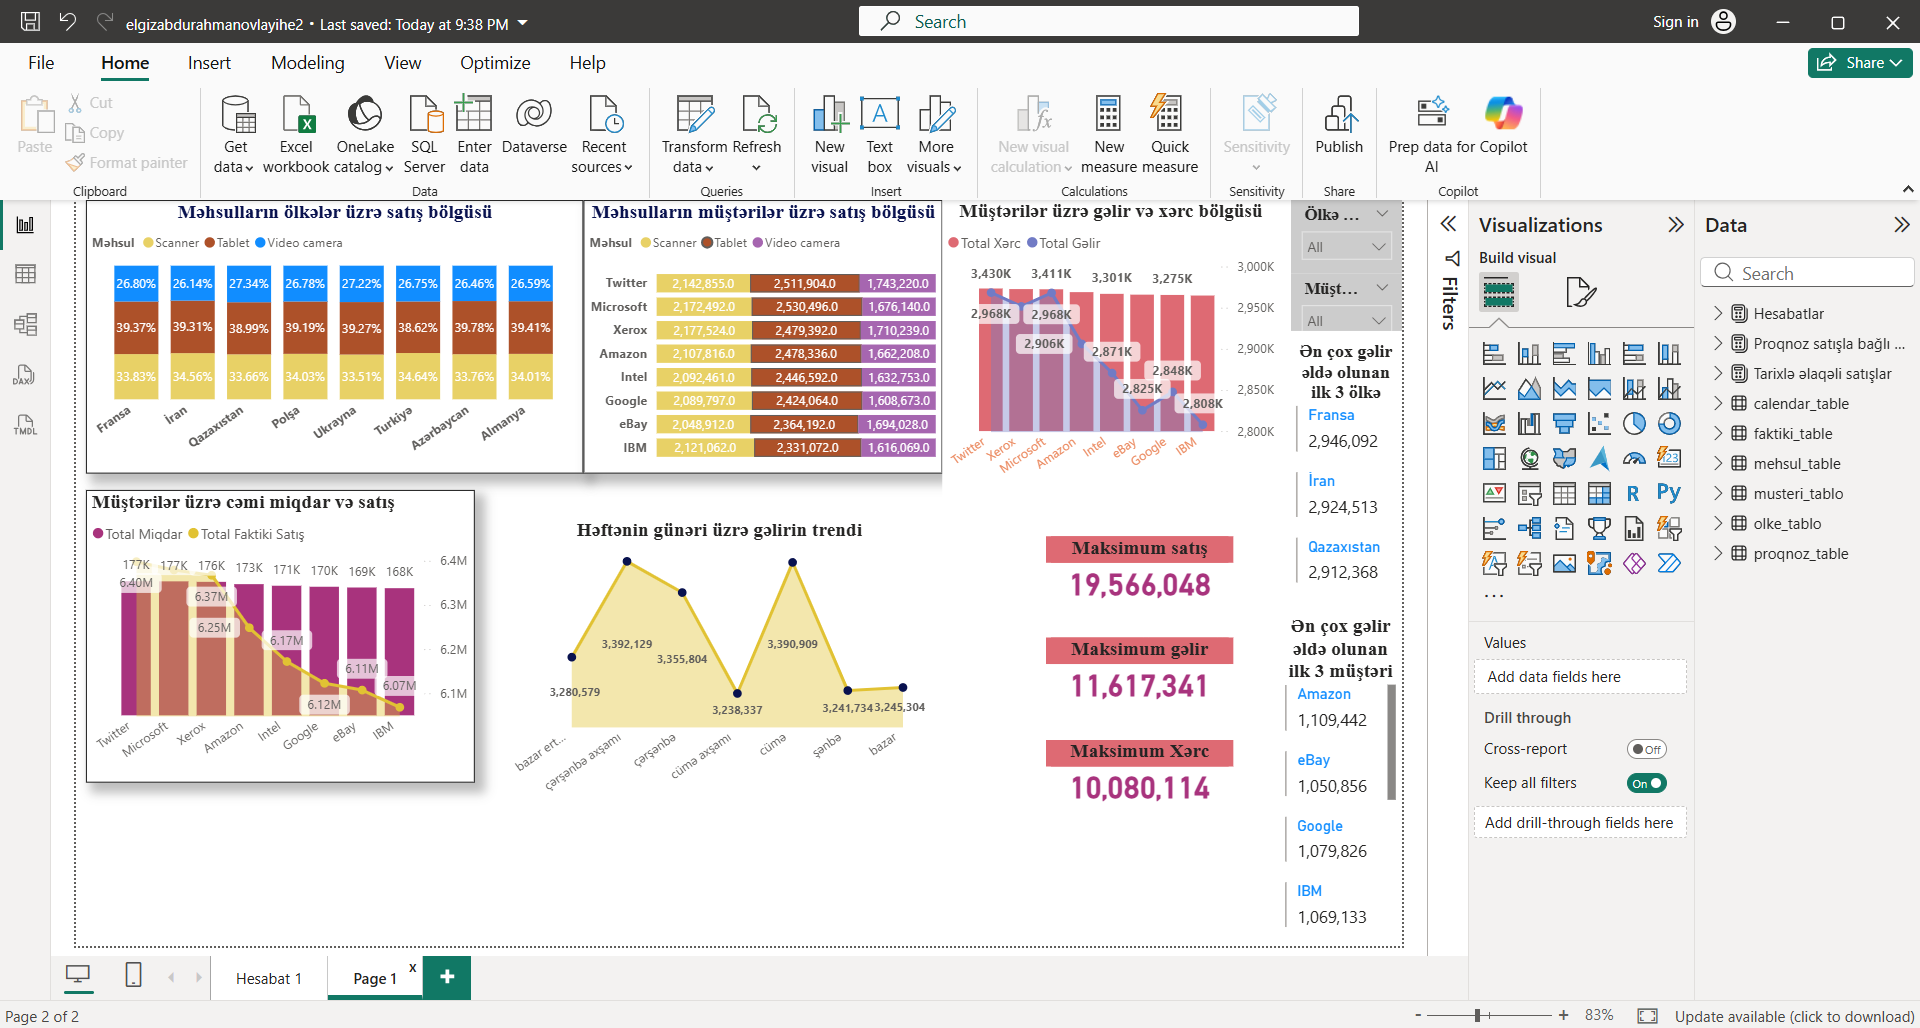

This screenshot's page, from the dashboard's own definition file:
{"tool":"powerbi","page":{"name":"Page 1","canvas":[1280,720],"ordinal":1},"visuals":[{"type":"hundredPercentStackedColumnChart","title":"Məhsulların ölkələr üzrə satış bölgüsü","fields":{"Y":["Hesabatlar.Total Faktiki Satış"],"Series":["mehsul_table.Məhsul"],"Category":["olke_tablo.Ölkə adı"]},"box":[10.1,0,479.7,263.8],"z":0},{"type":"hundredPercentStackedBarChart","title":"Məhsulların müştərilər üzrə satış bölgüsü","fields":{"Category":["musteri_tablo.Customer"],"Y":["Hesabatlar.Total Faktiki Satış"],"Series":["mehsul_table.Məhsul"]},"box":[489.9,0,346.4,263.8],"z":1},{"type":"lineStackedColumnComboChart","title":"Müştərilər üzrə cəmi miqdar və satış","fields":{"Y2":["Hesabatlar.Total Faktiki Satış"],"Category":["musteri_tablo.Customer"],"Y":["Hesabatlar.Total Miqdar"]},"box":[10.1,279.7,375.4,282.6],"z":2},{"type":"stackedAreaChart","title":"Həftənin günəri üzrə gəlirin trendi","fields":{"Category":["calendar_table.Həftənin günü"],"Y":["Hesabatlar.Total Gəlir"]},"box":[417.4,307.2,407.2,282.6],"z":3},{"type":"multiRowCard","title":"Ən çox gəlir əldə olunan ilk 3 ölkə","fields":{"Values":["olke_tablo.Ölkə adı","Hesabatlar.Total Gəlir"]},"box":[1172.5,136.2,105.8,263.8],"z":4},{"type":"multiRowCard","title":"Ən çox gəlir əldə olunan ilk 3 müştəri","fields":{"Values":["musteri_tablo.Customer","Hesabatlar.Total Gəlir"]},"box":[1162.3,400,117.4,311.6],"z":5},{"type":"lineStackedColumnComboChart","title":"Müştərilər üzrə gəlir və xərc bölgüsü","fields":{"Y":["Hesabatlar.Total Xərc"],"Y2":["Hesabatlar.Total Gəlir"],"Category":["musteri_tablo.Customer"]},"box":[836.2,0,326.1,287],"z":6},{"type":"card","title":"Maksimum satış","fields":{"Values":["Hesabatlar.Ən yüksək satış"]},"box":[936.2,324.6,181.2,68.1],"z":7},{"type":"card","title":"Maksimum gəlir","fields":{"Values":["Hesabatlar.Ən yüksək satış"]},"box":[936.2,421.7,181.2,68.1],"z":8},{"type":"card","title":"Maksimum Xərc","fields":{"Values":["Hesabatlar.Ən çox Xərc"]},"box":[936.2,521.7,181.2,68.1],"z":9},{"type":"slicer","fields":{"Values":["olke_tablo.Ölkə adı"]},"box":[1172.5,0,107.2,71],"z":10},{"type":"slicer","fields":{"Values":["musteri_tablo.Customer"]},"box":[1172.5,71,107.2,55.1],"z":11}]}

Visuals, with their boxes on the page's 1280x720 design canvas (x1, y1, x2, y2). These are canvas units, not pixel positions in the 1920x1028 screenshot, which may show the page scaled, cropped or inside an application window:
"Məhsulların ölkələr üzrə satış bölgüsü" hundredPercentStackedColumnChart: 10:0:490:264
"Məhsulların müştərilər üzrə satış bölgüsü" hundredPercentStackedBarChart: 490:0:836:264
"Müştərilər üzrə cəmi miqdar və satış" lineStackedColumnComboChart: 10:280:386:562
"Həftənin günəri üzrə gəlirin trendi" stackedAreaChart: 417:307:825:590
"Ən çox gəlir əldə olunan ilk 3 ölkə" multiRowCard: 1172:136:1278:400
"Ən çox gəlir əldə olunan ilk 3 müştəri" multiRowCard: 1162:400:1280:712
"Müştərilər üzrə gəlir və xərc bölgüsü" lineStackedColumnComboChart: 836:0:1162:287
"Maksimum satış" card: 936:325:1117:393
"Maksimum gəlir" card: 936:422:1117:490
"Maksimum Xərc" card: 936:522:1117:590
slicer - olke_tablo.Ölkə adı: 1172:0:1280:71
slicer - musteri_tablo.Customer: 1172:71:1280:126
